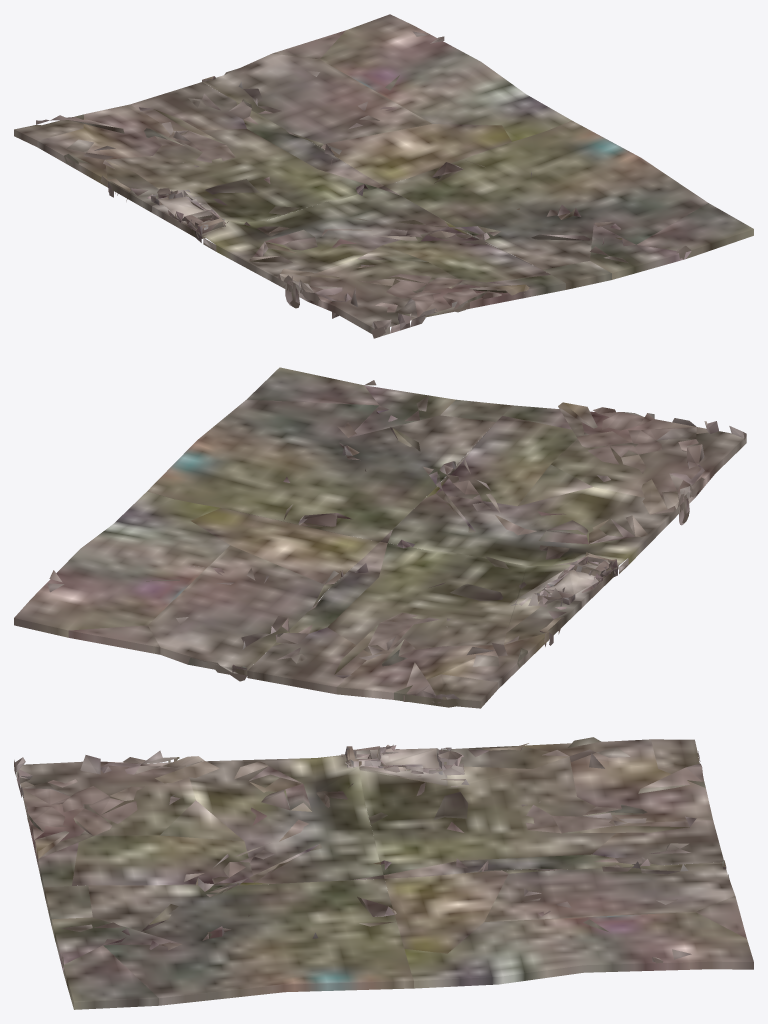
The picture shows the model from 3 angles, top to bottom: view 1: azimuth 30°, elevation 25°; view 2: azimuth 150°, elevation 25°; view 3: azimuth 270°, elevation 25°; orthographic projection. The views are drawn at different scales.
Visible parts, largest first — view 1: Mesh_0; view 2: Mesh_0; view 3: Mesh_0.
Part boxes in pixels (box(x1,y1,x2,y2)): Mesh_0: box(14, 14, 753, 338); Mesh_0: box(14, 367, 746, 708); Mesh_0: box(14, 737, 753, 1009).
Size of the model in its own units: 2130 by 188 by 2639.
Materials: 1 (1 with a texture image).
